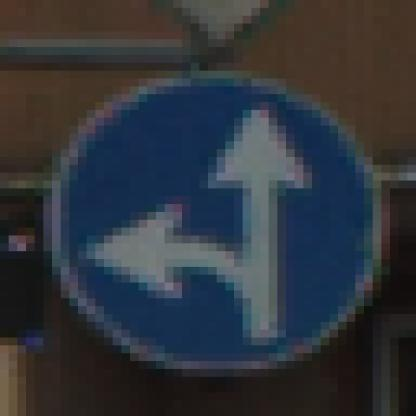Straight or Left: (53, 48, 374, 370)
